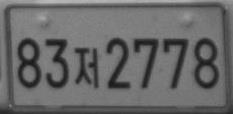2: (105, 37, 130, 89)
3: (44, 38, 70, 88)
7: (133, 37, 159, 89), (163, 37, 189, 89)
8: (193, 36, 220, 89), (16, 37, 42, 88)
저: (75, 47, 99, 88)
